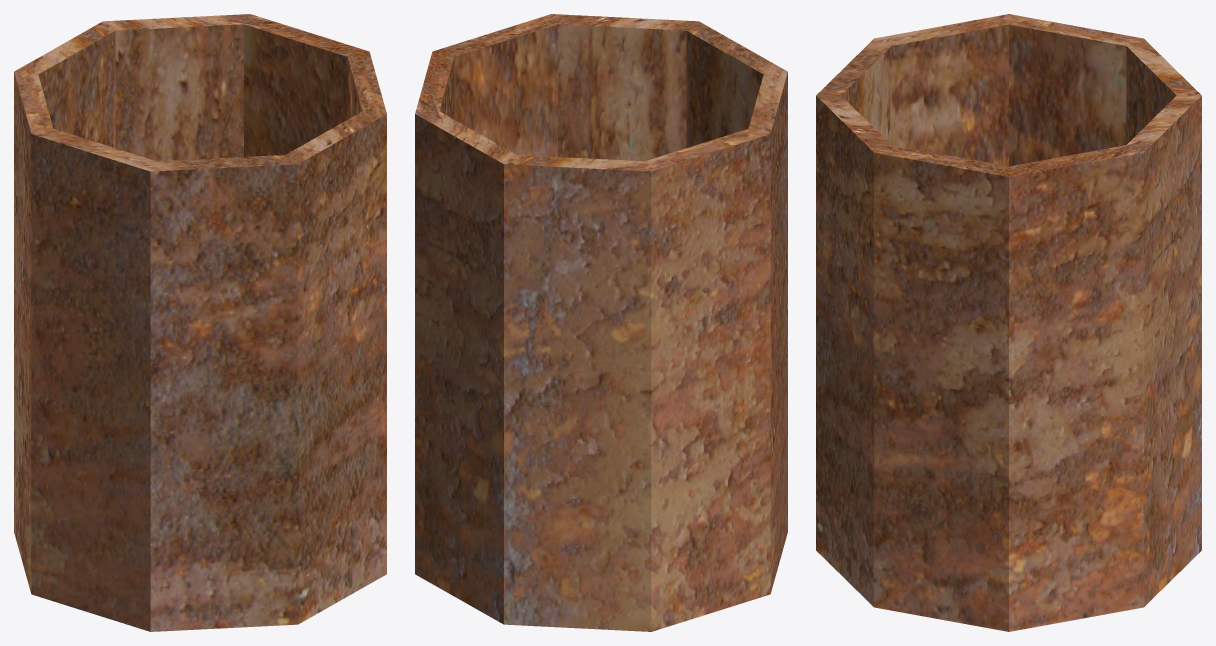
Rendered from RustedBarrel.fbx.
3 views of the same model, side by side, from view 1: azimuth 30°, elevation 25°; view 2: azimuth 150°, elevation 25°; view 3: azimuth 270°, elevation 25° (orthographic).
Visible parts, largest first — view 1: Cube; view 2: Cube; view 3: Cube.
Part boxes in pixels (left/top/right/bottom): Cube: left=14, top=14, right=386, bottom=631; Cube: left=415, top=14, right=787, bottom=631; Cube: left=816, top=14, right=1201, bottom=631.
Bounding box in the file's own units: 200 × 260 × 200.
